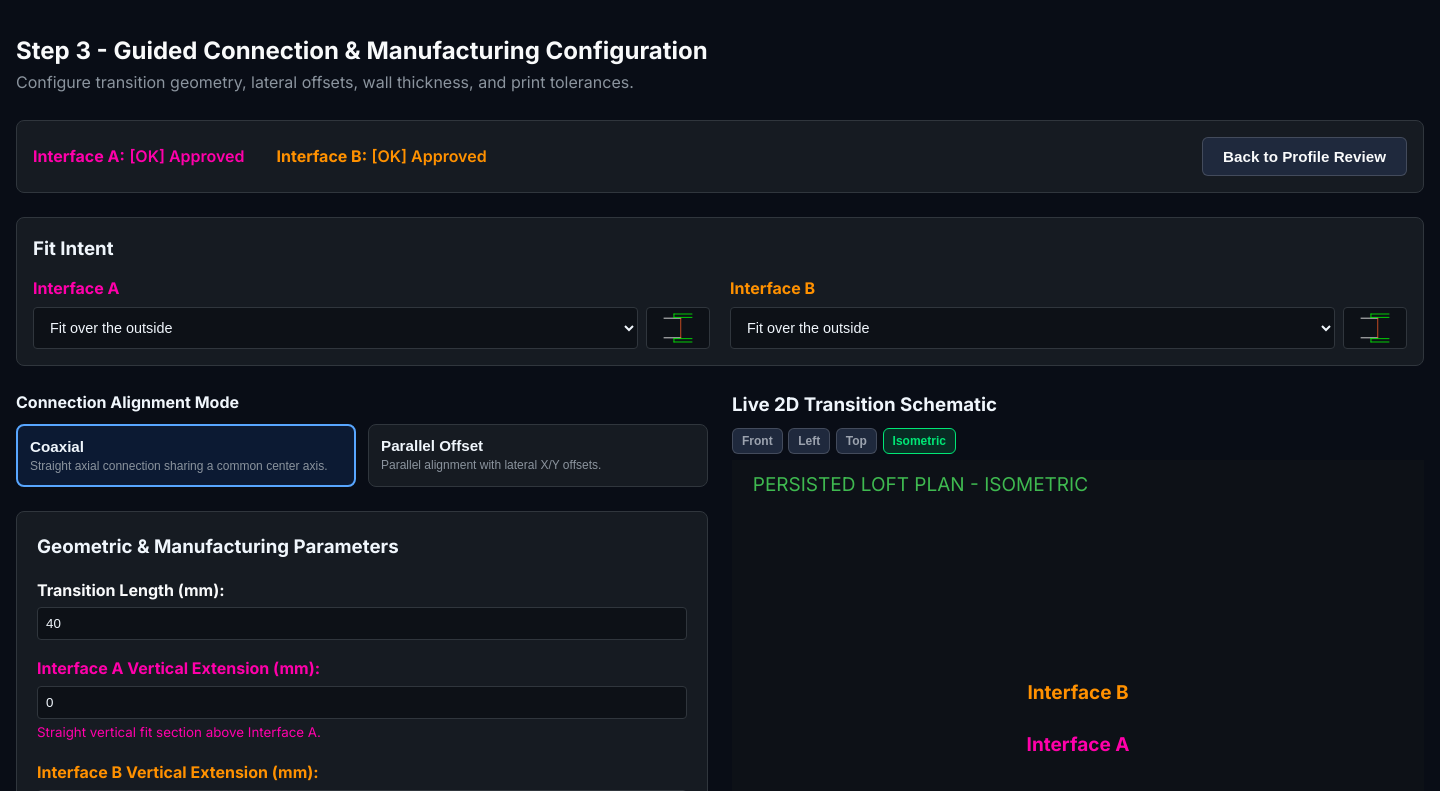
Test: ConnectionConfigPage Component (Stage S4C) › disables save button and displays error when transition length is changed to 0
Step 1. Replace the text in the number field labelled "Transition Length (mm):" with "0" → (362, 624), box [37,607,687,640]
(page scrolled)
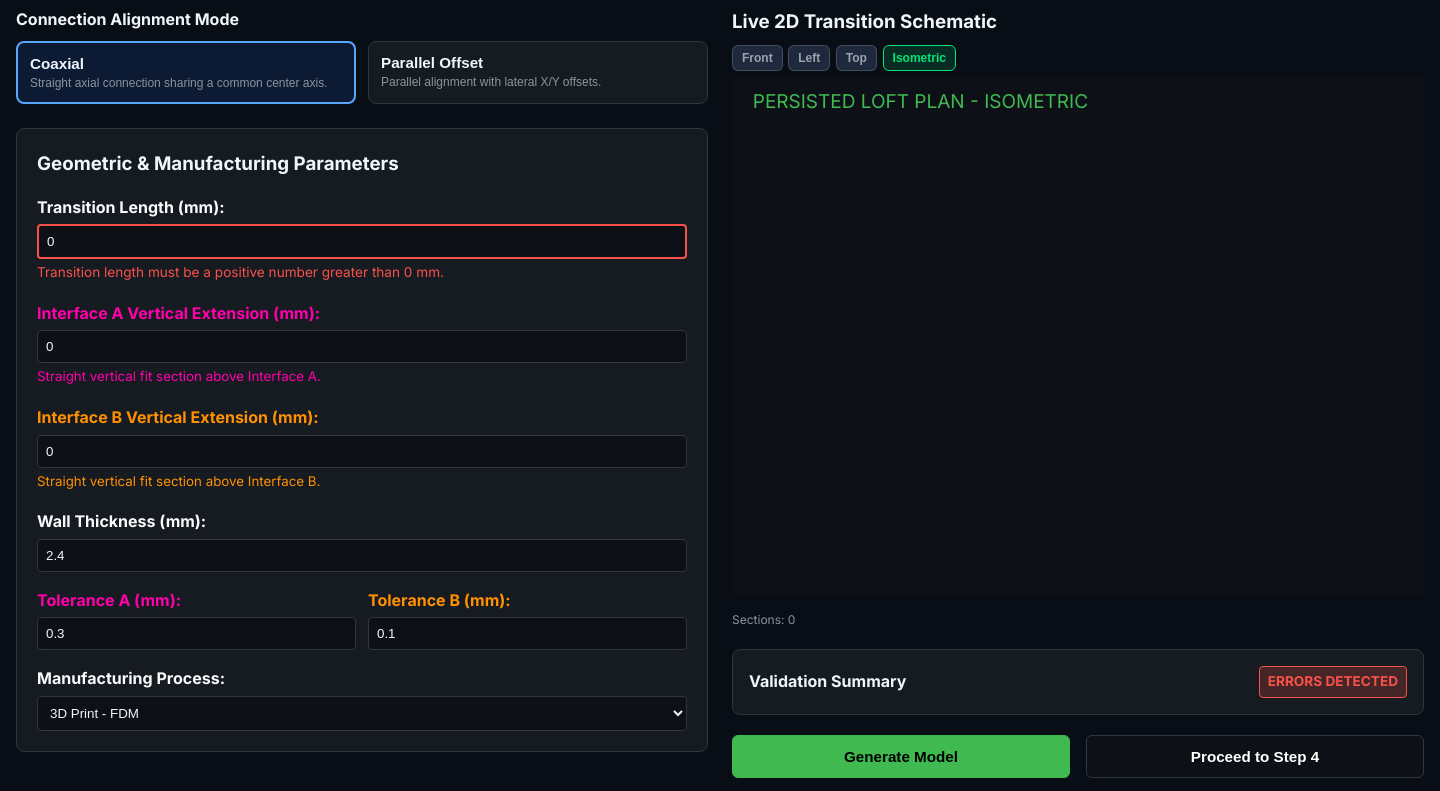
Now the text "ERRORS DETECTED" is shown, box [1259,666,1407,698]
Now the button "Generate Model" is disabled, box [732,735,1070,778]
